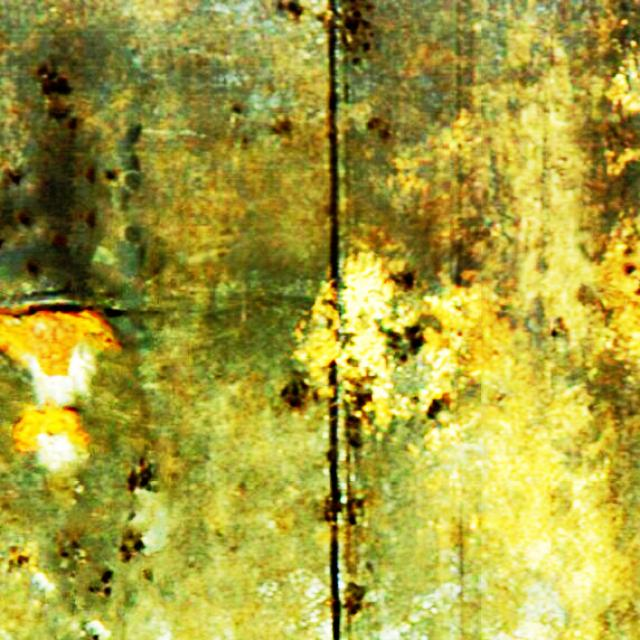Corrosion: (0, 308, 118, 377), (13, 408, 88, 449)
